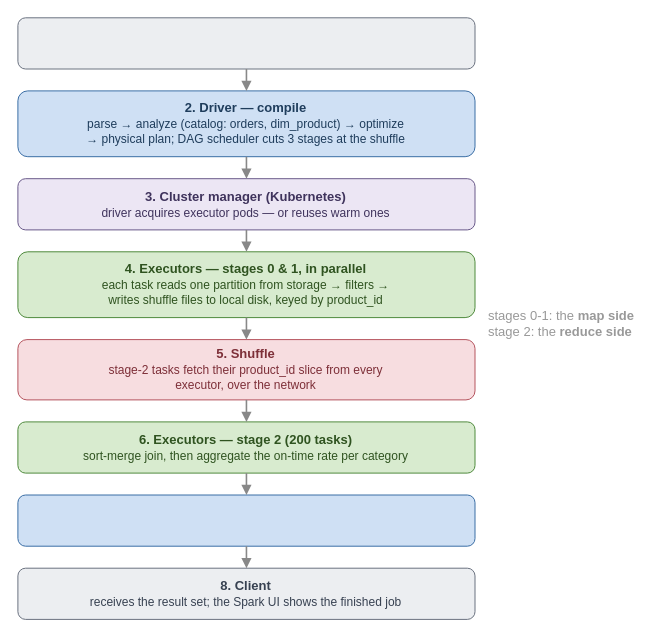
Image size: 652x637. Some labels were removed from this diagram. Here are the shapes that lost their labels. From the top down, the centre of each, then its label:
At (246,43): "1. Client sends the SQL text to the driver (your session)".
At (246,520): "7. Driver collects the ~few thousand aggregated result rows".
